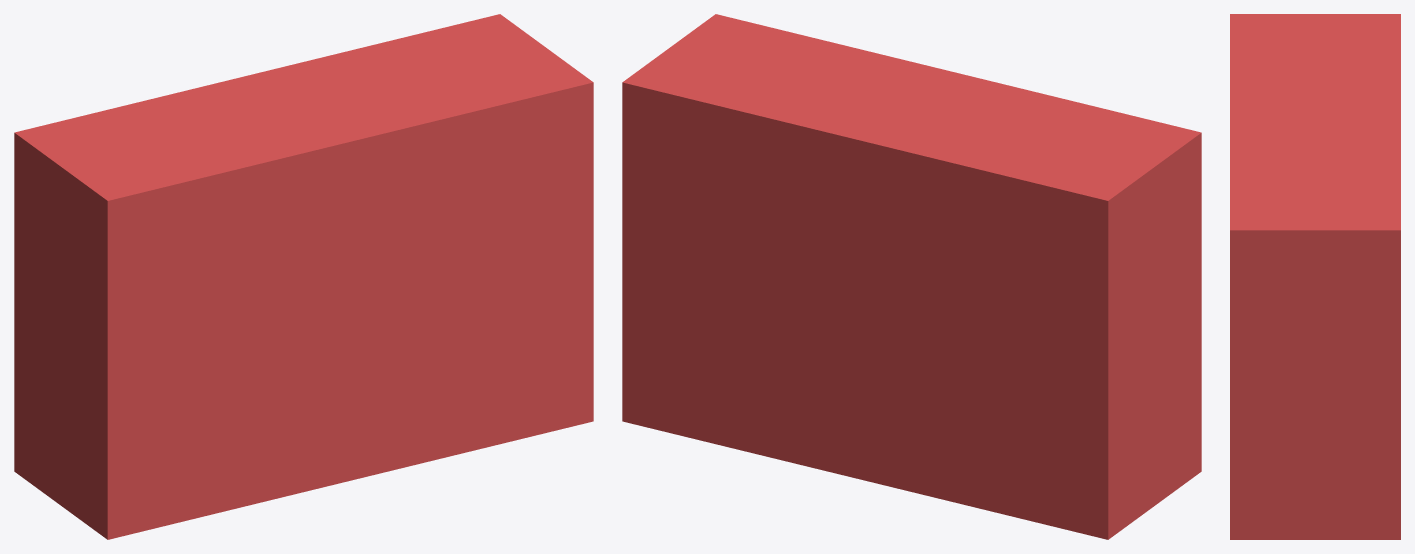
File: box-animated.glb
3 renders of one model, left to right at view 1: azimuth 30°, elevation 25°; view 2: azimuth 150°, elevation 25°; view 3: azimuth 270°, elevation 25°, orthographic. The views are drawn at different scales.
Parts seen in each view (by area): view 1: Box; view 2: Box; view 3: Box.
Boxes of the visible parts, x1,y1,x2,y2 form: Box: (14, 14, 593, 539); Box: (622, 14, 1201, 539); Box: (1230, 14, 1400, 539).
Bounding box in the file's own units: 30 × 20 × 10.
